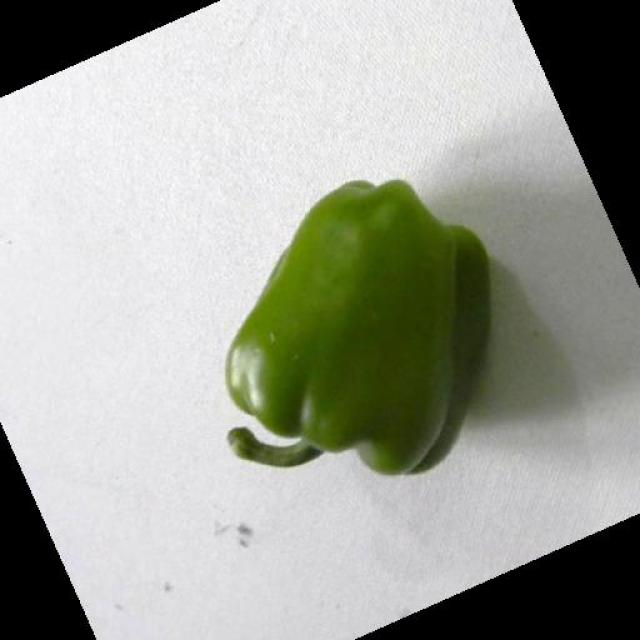Fresh_Capsicum: (246, 198, 467, 473)
